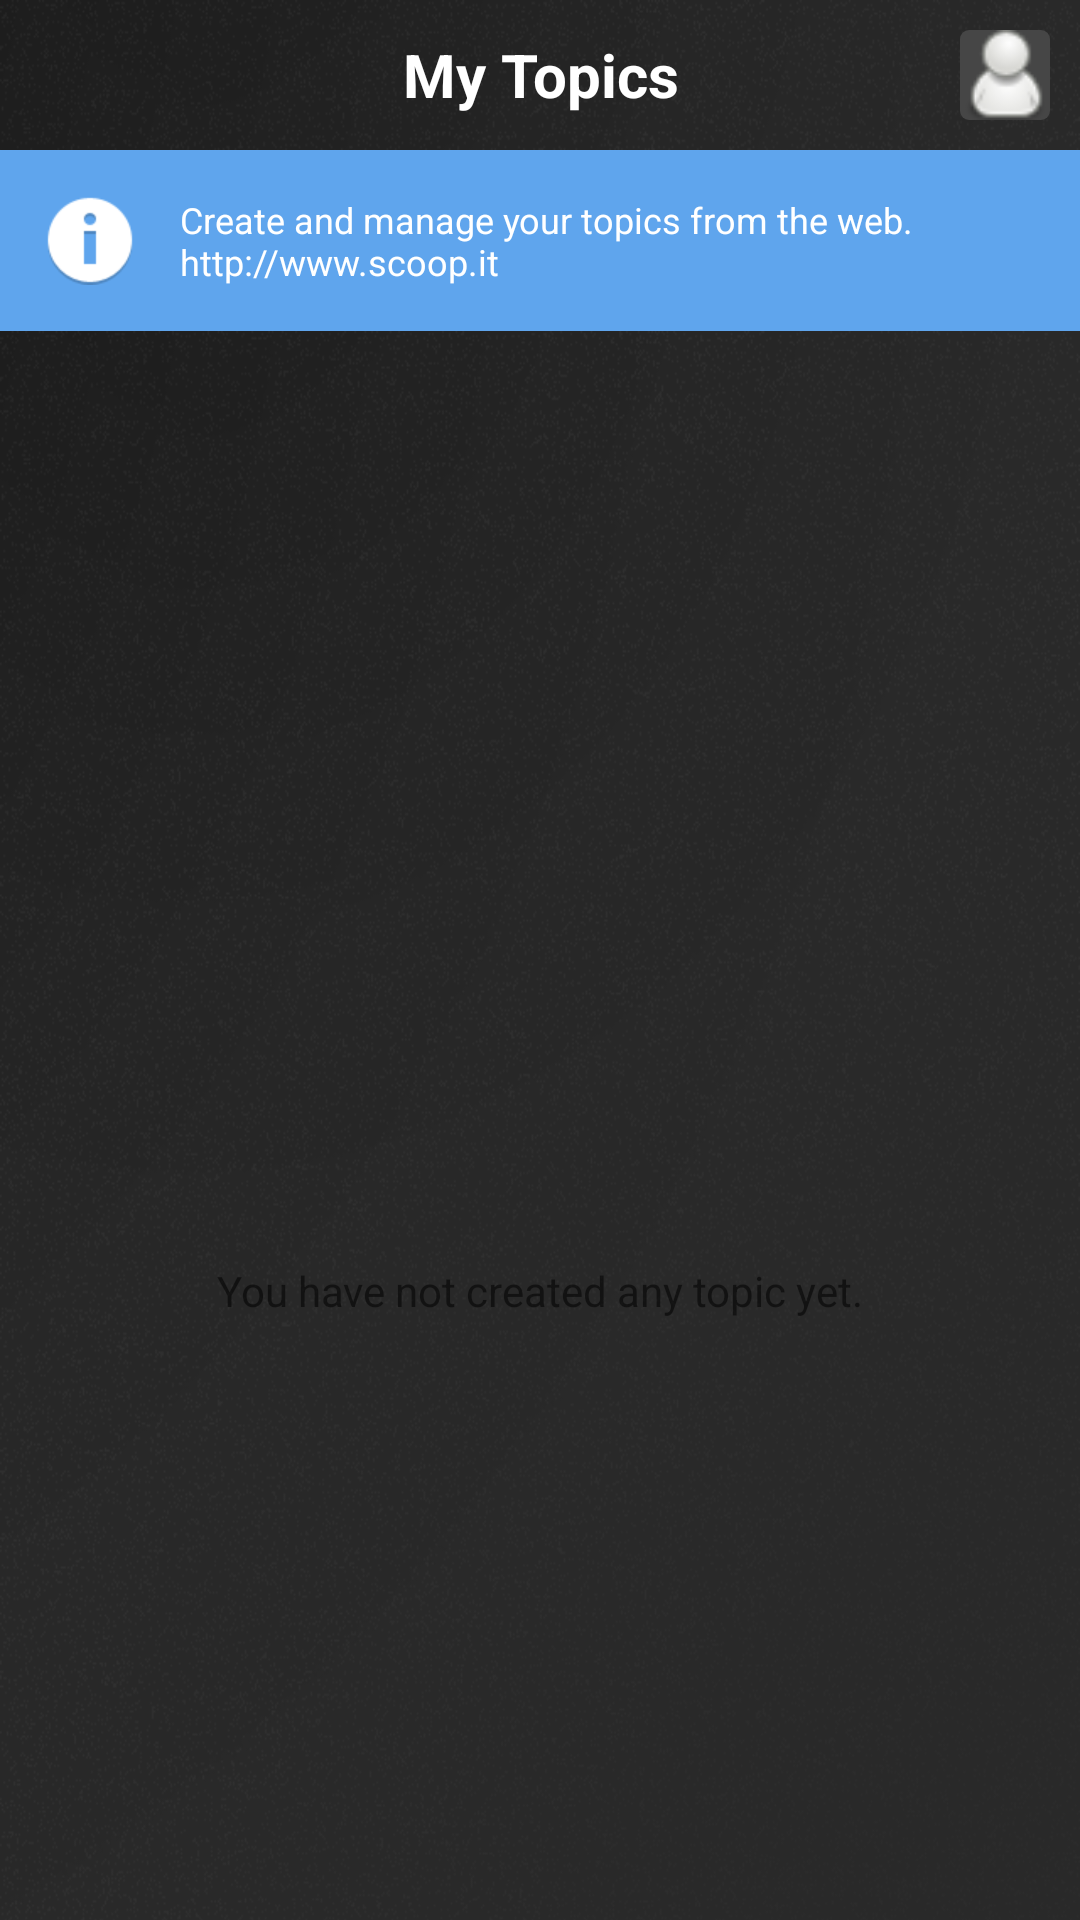

Point at icon controls on the screen. Image size 1080 × 1920, points as point (x, y).
info: point (90, 241)
